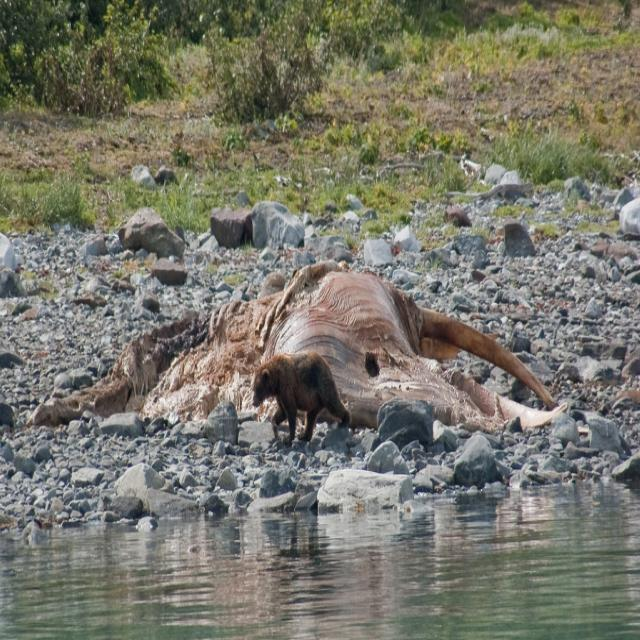Cheetahs: (252, 347, 351, 447)
